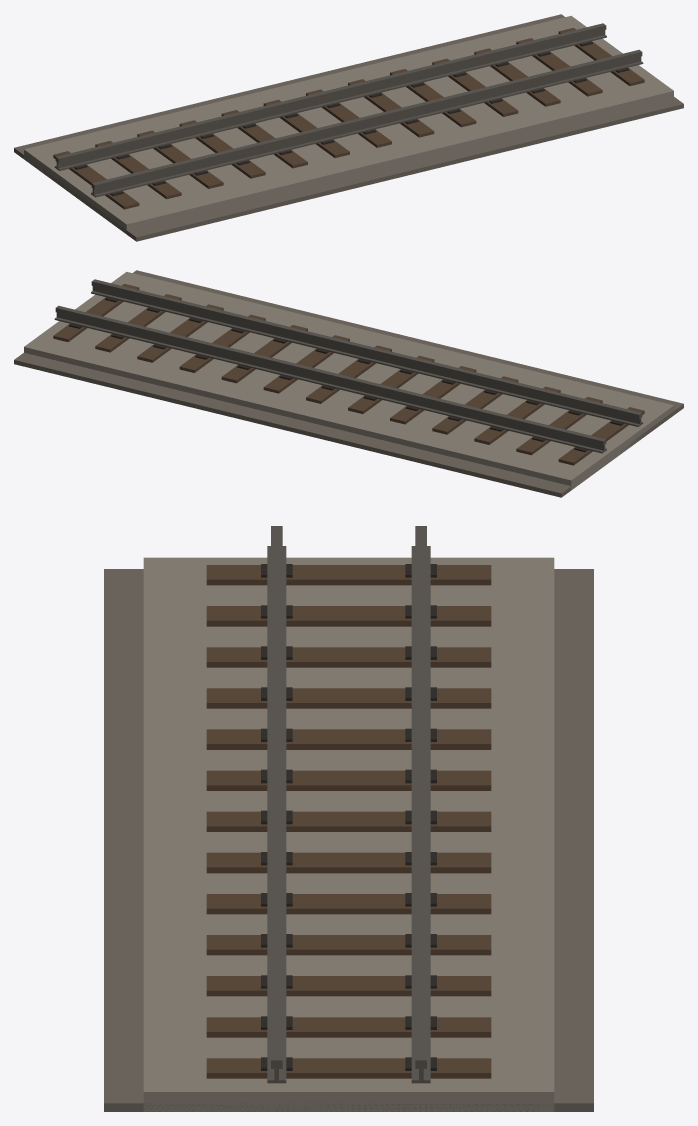
File: rieles-riel-recta.glb
3 renders of one model, top to bottom at view 1: azimuth 30°, elevation 25°; view 2: azimuth 150°, elevation 25°; view 3: azimuth 270°, elevation 25°, orthographic. The views are drawn at different scales.
Visible parts, largest first — view 1: riel_recta_Balasto, riel_recta_Riel, riel_recta_BalastoHombro, riel_recta_Durmiente, riel_recta_PlacaApoyo; view 2: riel_recta_Balasto, riel_recta_Riel, riel_recta_BalastoHombro, riel_recta_Durmiente, riel_recta_PlacaApoyo; view 3: riel_recta_Balasto, riel_recta_Durmiente, riel_recta_BalastoHombro, riel_recta_Riel, riel_recta_PlacaApoyo.
Part boxes in pixels (box(x1,y1,x2,y2)): riel_recta_Balasto: box(24, 15, 673, 233); riel_recta_Riel: box(54, 23, 643, 197); riel_recta_BalastoHombro: box(14, 14, 683, 241); riel_recta_Durmiente: box(53, 28, 644, 209); riel_recta_PlacaApoyo: box(74, 41, 629, 196); riel_recta_Balasto: box(24, 271, 673, 490); riel_recta_Riel: box(54, 279, 643, 453); riel_recta_BalastoHombro: box(14, 270, 683, 497); riel_recta_Durmiente: box(53, 284, 644, 465); riel_recta_PlacaApoyo: box(68, 297, 623, 452); riel_recta_Balasto: box(143, 557, 554, 1111); riel_recta_Durmiente: box(206, 565, 491, 1078); riel_recta_BalastoHombro: box(104, 569, 593, 1111); riel_recta_Riel: box(267, 526, 430, 1083); riel_recta_PlacaApoyo: box(261, 564, 436, 1070).
Size of the model in its own units: 8 by 0.36 by 3.1.
